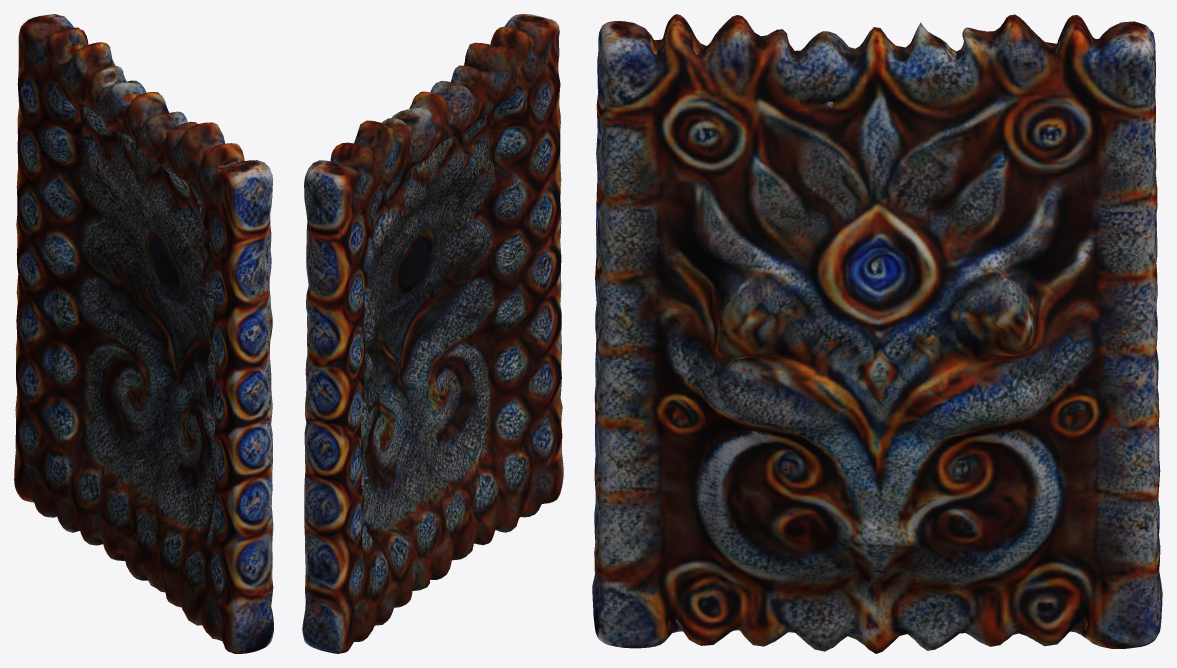
File: f79d371352a3_Adorable_Wall_Brick.fbx
The picture shows the model from 3 angles, left to right: view 1: azimuth 30°, elevation 25°; view 2: azimuth 150°, elevation 25°; view 3: azimuth 270°, elevation 25°; orthographic projection. The views are drawn at different scales.
Visible parts, largest first — view 1: mesh; view 2: mesh; view 3: mesh.
Boxes of the visible parts, <box> form: mesh: <box>14,14,273,653</box>; mesh: <box>302,14,563,653</box>; mesh: <box>592,14,1162,653</box>.
Size of the model in its own units: 19.25 by 99.39 by 81.6.
